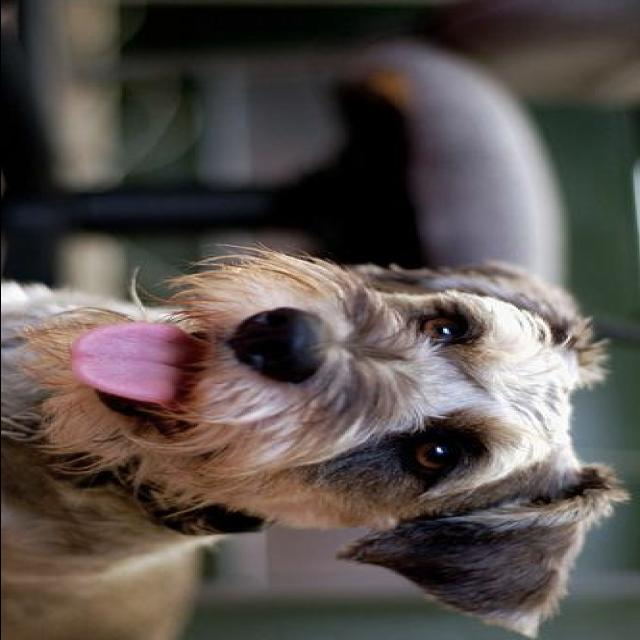standard_schnauzer: (2, 242, 630, 640)
